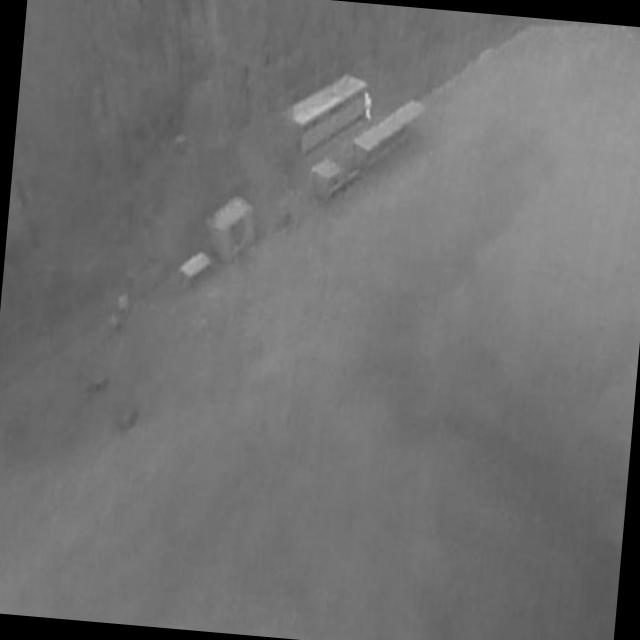person: (364, 94, 375, 123)
